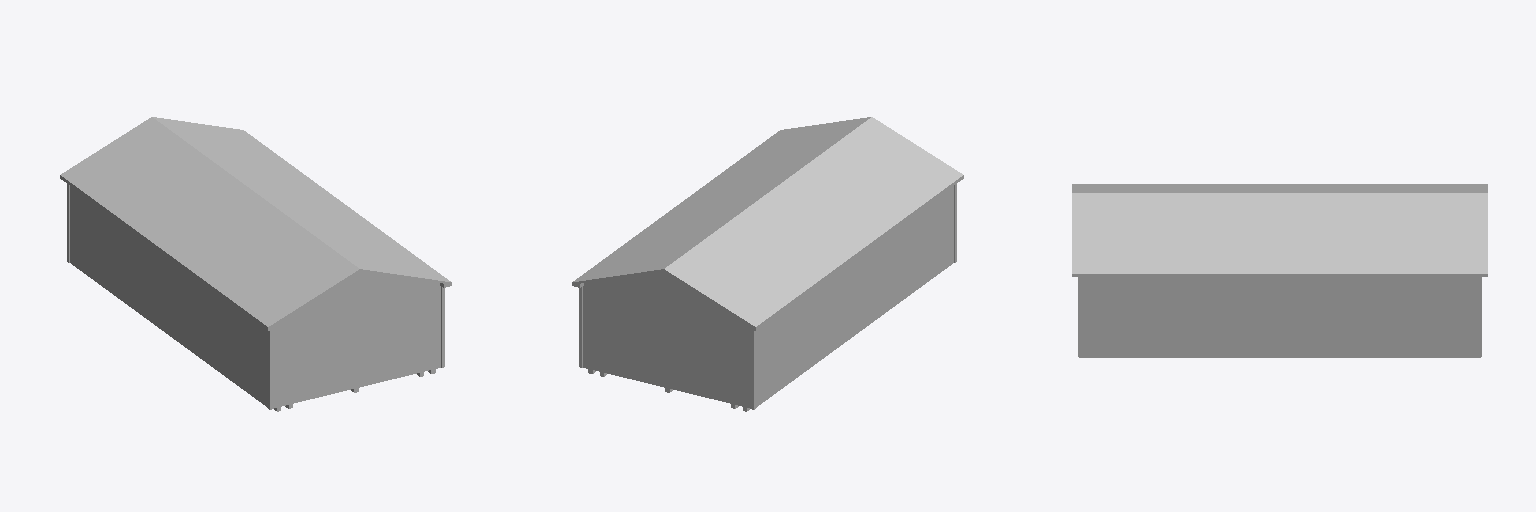
Rendered from Classic A-Frame_14x28.obj.
3 renders of one model, left to right at view 1: azimuth 30°, elevation 25°; view 2: azimuth 150°, elevation 25°; view 3: azimuth 270°, elevation 25°, orthographic.
Parts seen in each view (by area): view 1: Classic A-Frame_14x28.obj; view 2: Classic A-Frame_14x28.obj; view 3: Classic A-Frame_14x28.obj.
Part boxes in pixels (left/top/right/bottom): Classic A-Frame_14x28.obj: left=60, top=117, right=451, bottom=411; Classic A-Frame_14x28.obj: left=572, top=117, right=963, bottom=411; Classic A-Frame_14x28.obj: left=1072, top=184, right=1487, bottom=357.
Size of the model in its own units: 4.5 by 2.96 by 8.84.